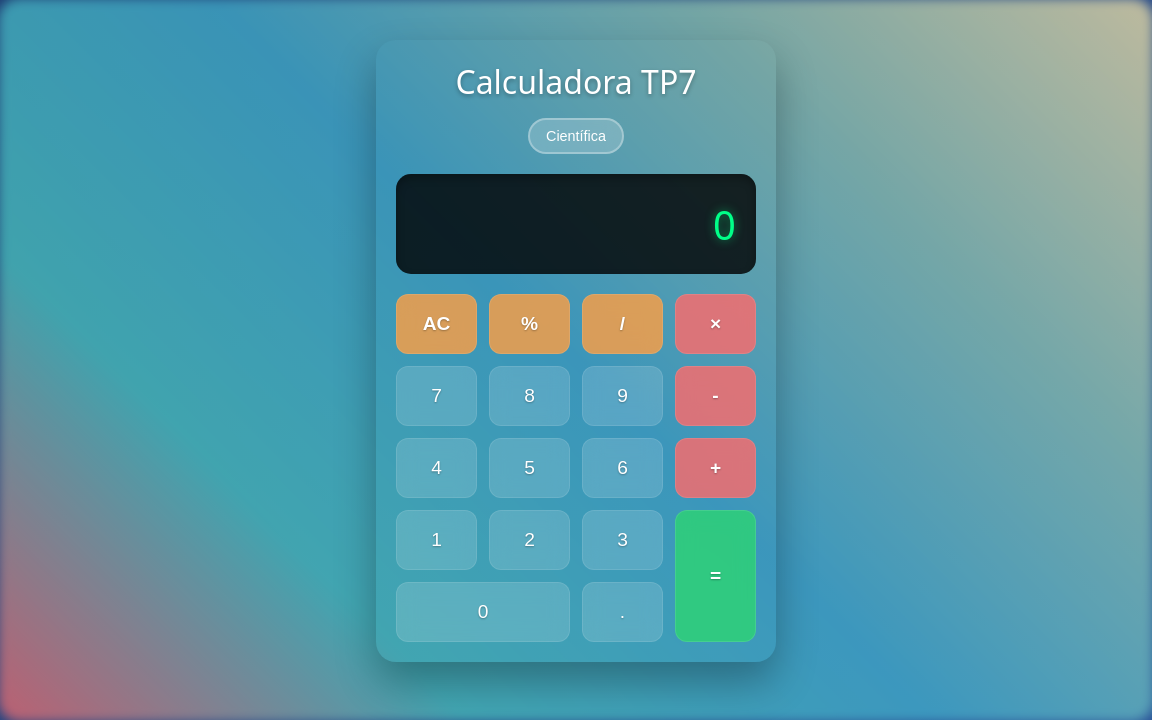
Test case: Calculator Regression Tests › Error Handling Regression › REGRESSION: Division by zero always shows Error
The image size is (1152, 720).
What coordinates should you click on to do the following:
click the button "1"
I would click on:
 (436, 540)
Its box is top-left (396, 510), bottom-right (477, 570).
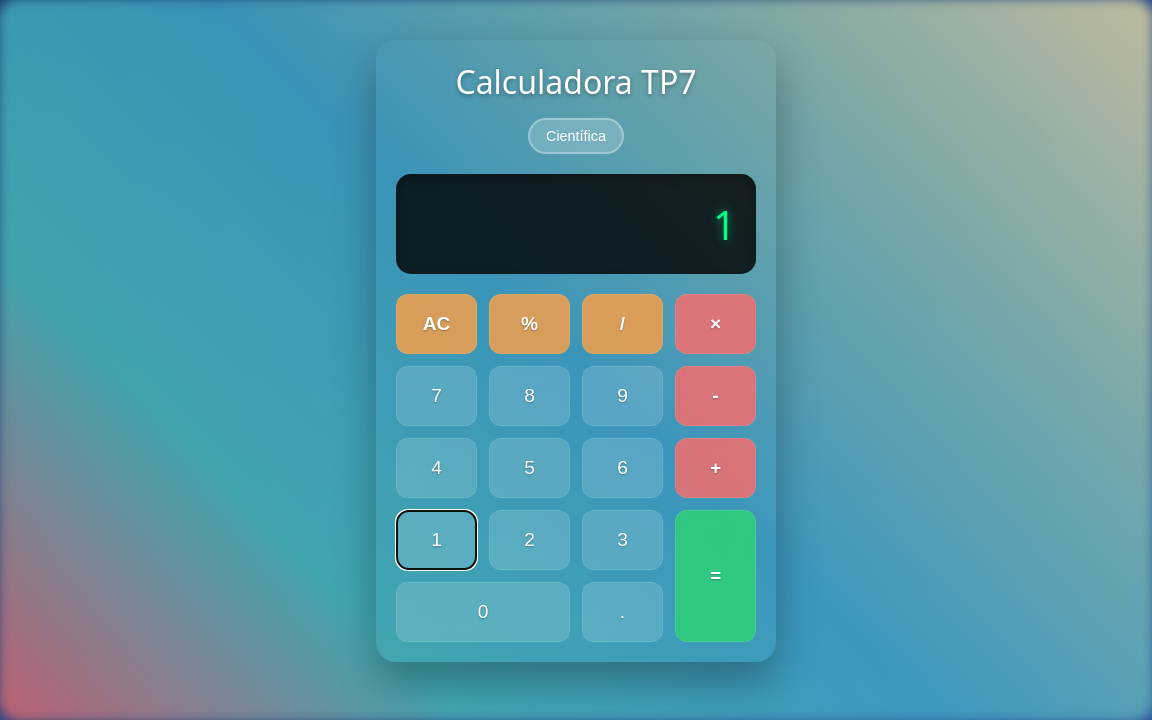
What coordinates should you click on to do the following:
click the button "/"
I would click on:
 (622, 324)
Its box is top-left (582, 294), bottom-right (663, 354).
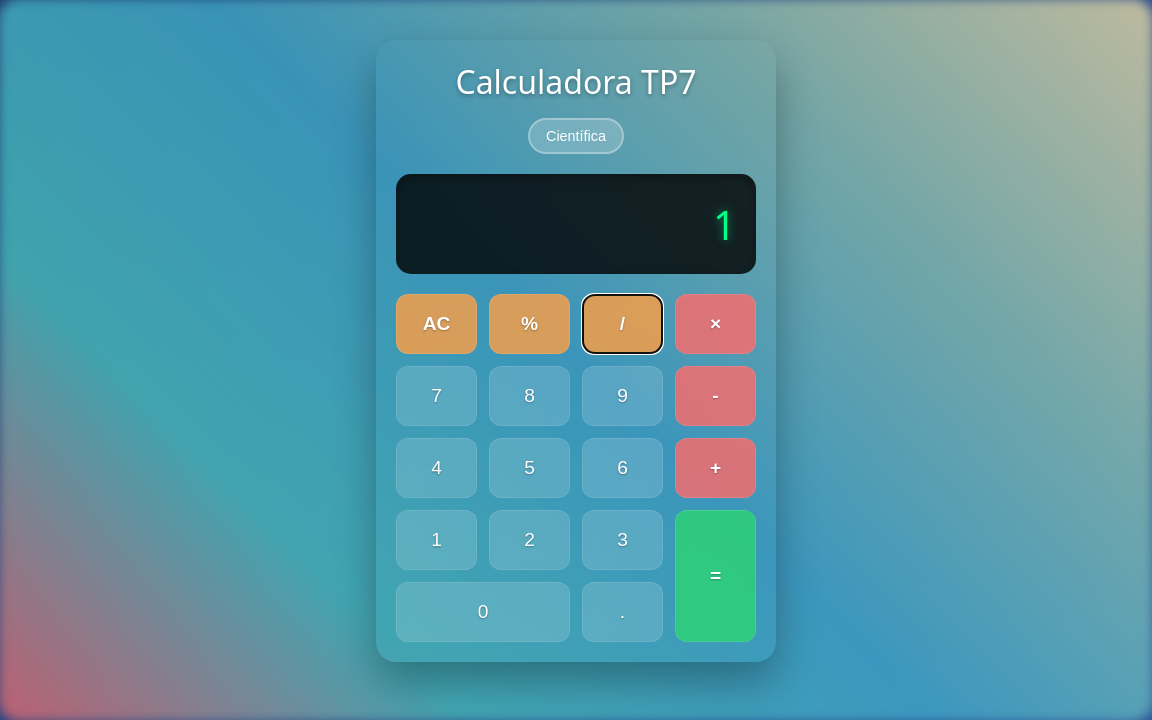
What coordinates should you click on to do the following:
click the button "0"
I would click on:
 (483, 612)
Its box is top-left (396, 582), bottom-right (570, 642).
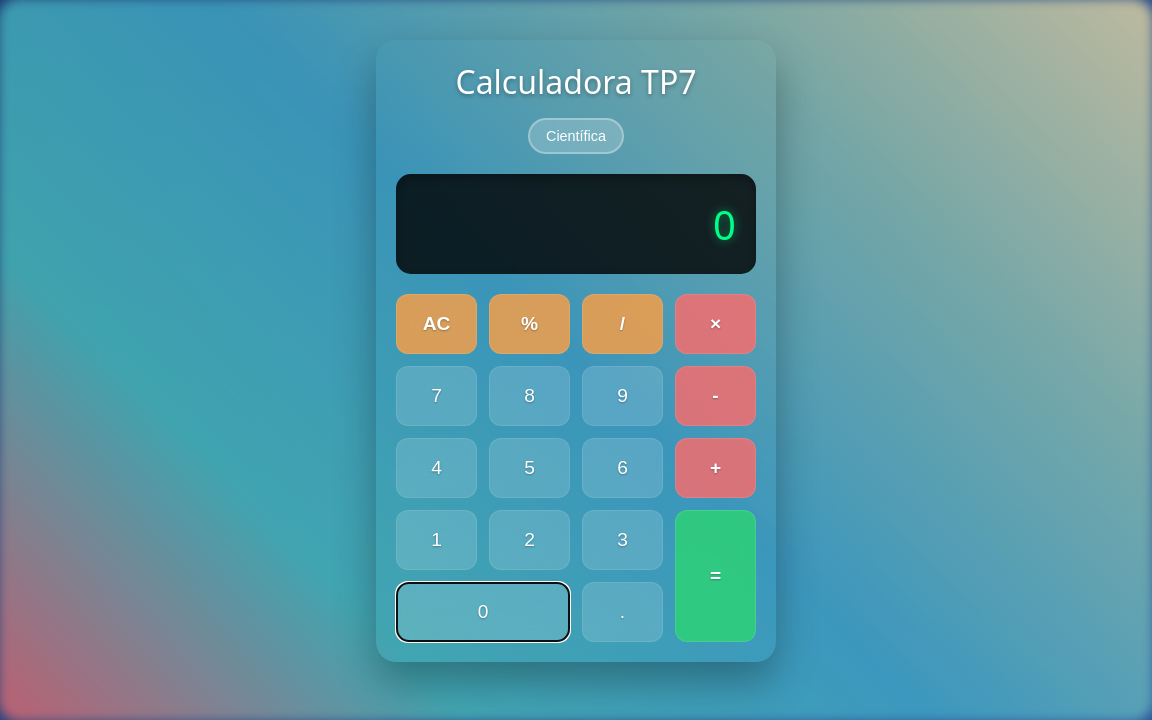
What coordinates should you click on to do the following:
click the button "="
I would click on:
 (716, 576)
Its box is top-left (675, 510), bottom-right (756, 642).
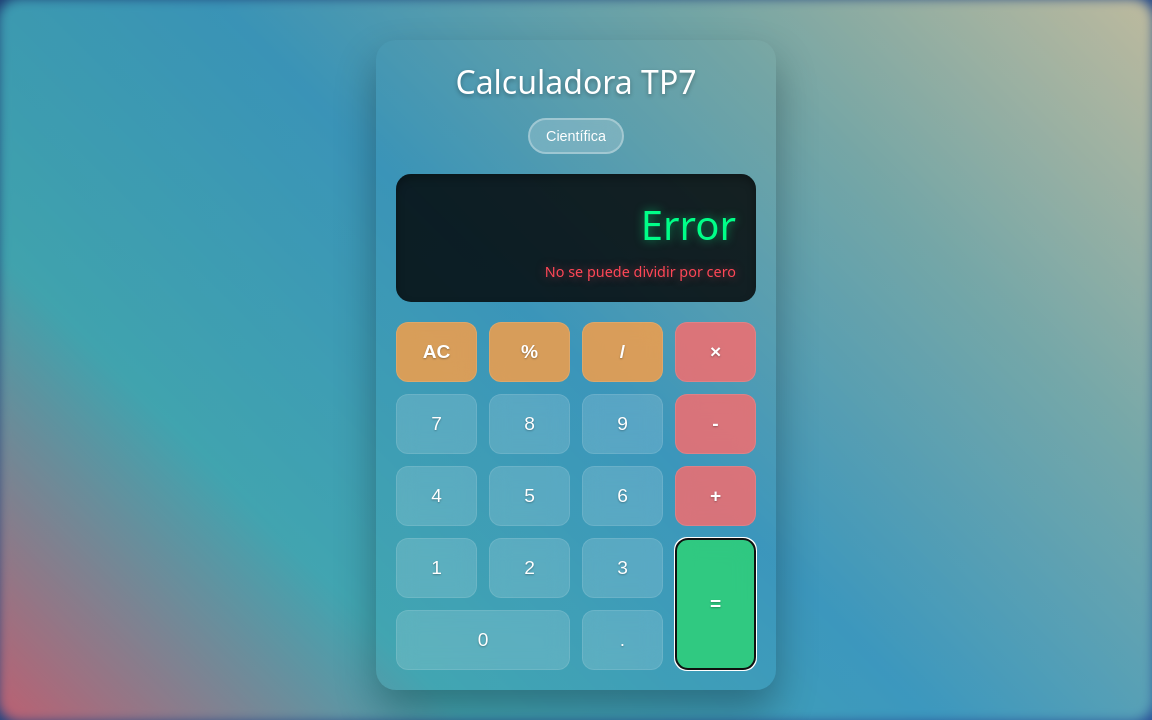
Expected: the field with test id "display" reads "Error", top-left (641, 196), bottom-right (736, 252)
